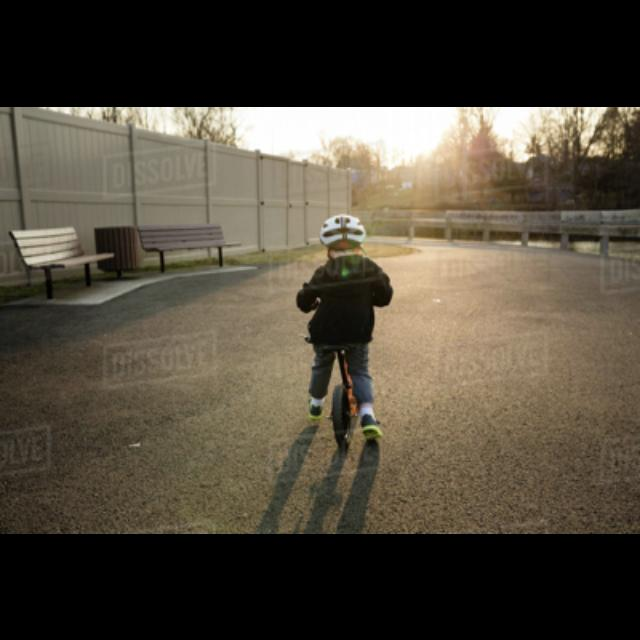With Helmet: (312, 202, 370, 262)
